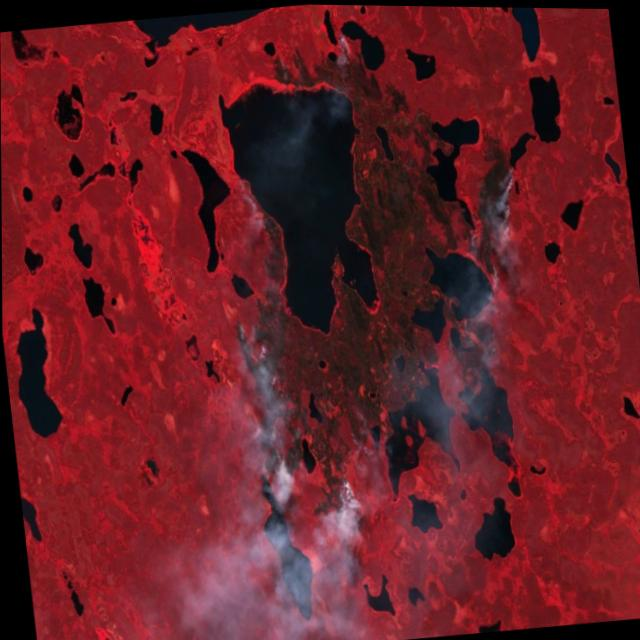fire: (212, 159, 558, 541)
